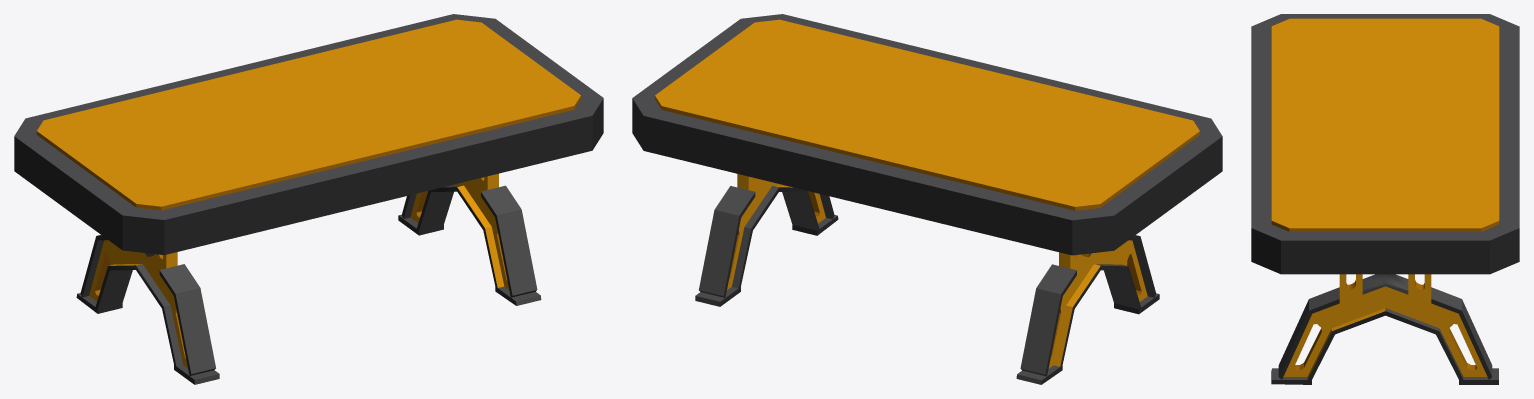
File: TableSciFi_02.glb
3 renders of one model, left to right at view 1: azimuth 30°, elevation 25°; view 2: azimuth 150°, elevation 25°; view 3: azimuth 270°, elevation 25°, orthographic. The views are drawn at different scales.
Parts seen in each view (by area): view 1: TableSciFi_02; view 2: TableSciFi_02; view 3: TableSciFi_02.
Boxes of the visible parts, left/top/right/bottom form: TableSciFi_02: left=14, top=14, right=603, bottom=384; TableSciFi_02: left=632, top=14, right=1222, bottom=384; TableSciFi_02: left=1251, top=14, right=1519, bottom=384.
Size of what is drawn, in the model's own units: 2.66 by 0.9835 by 1.33.
1 material, 1 textured.
